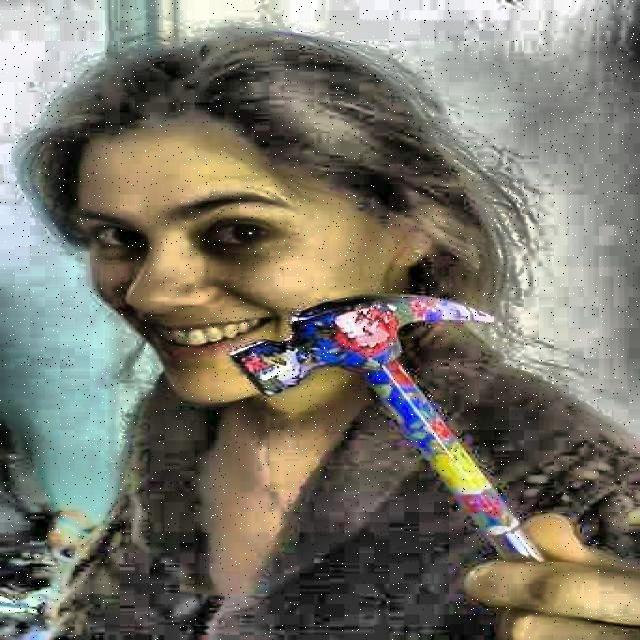hammer: (224, 294, 616, 609)
